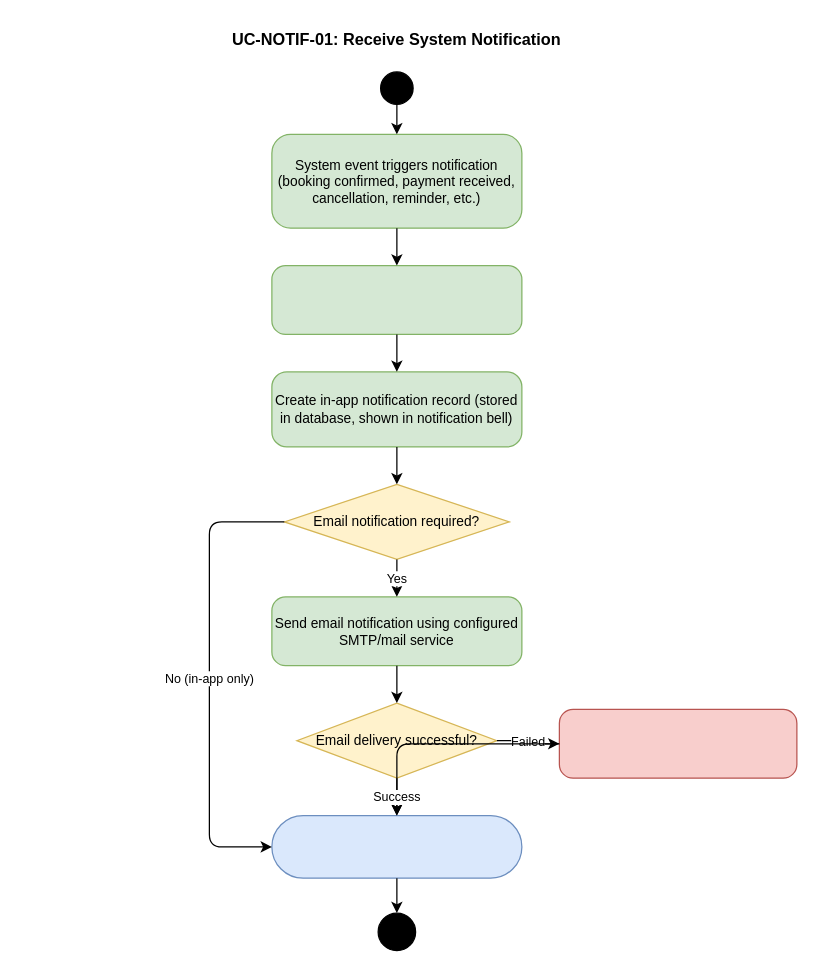
Image size: 819x973. Some labels were removed from this diagram. The centre of each missing label's shape, as x and y in pixels:
"Log delivery failure. In-app notification still available." goes at point (677, 743).
"System determines target user(s) and notification type" goes at point (396, 299).
"User views notification in app or reads email" goes at point (396, 846).
